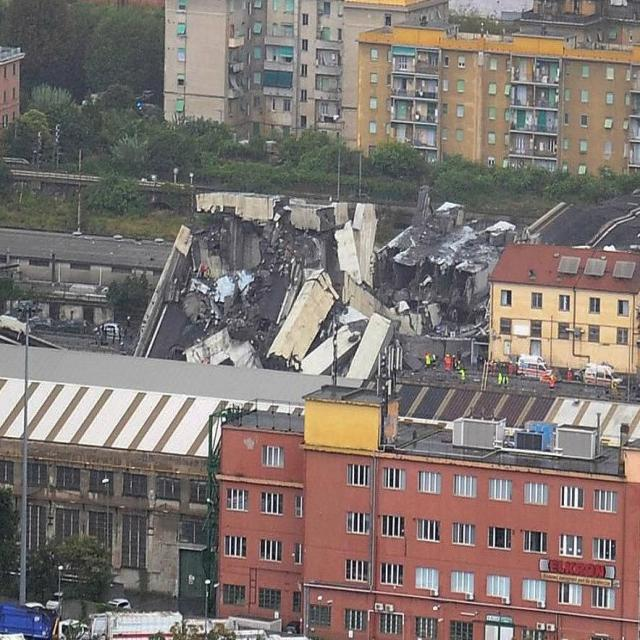collapsed_building: (202, 191, 370, 391), (379, 222, 490, 354)
